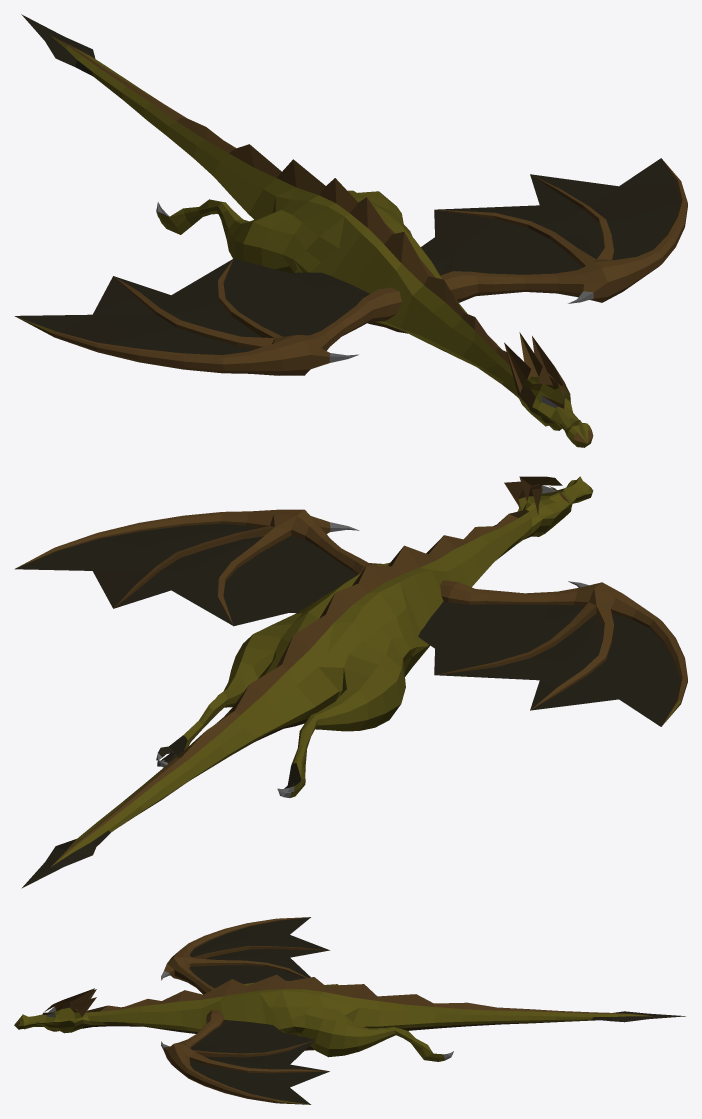
The model's file is ere.fbx.
The picture shows the model from 3 angles, top to bottom: view 1: azimuth 30°, elevation 25°; view 2: azimuth 150°, elevation 25°; view 3: azimuth 270°, elevation 25°; orthographic projection. The views are drawn at different scales.
Parts seen in each view (by area): view 1: Plane; view 2: Plane; view 3: Plane.
Boxes of the visible parts, <box> form: Plane: <box>14,14,687,447</box>; Plane: <box>14,476,687,888</box>; Plane: <box>14,917,685,1104</box>.
Bounding box in the file's own units: 29.8 × 5.69 × 45.19.
